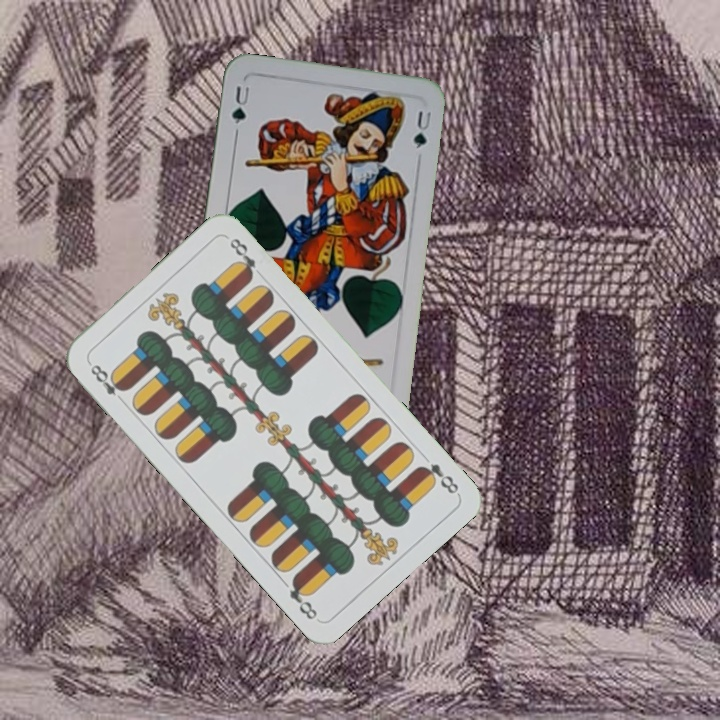E8: (84, 358, 130, 406), (414, 459, 462, 497)
GU: (228, 82, 252, 129)
